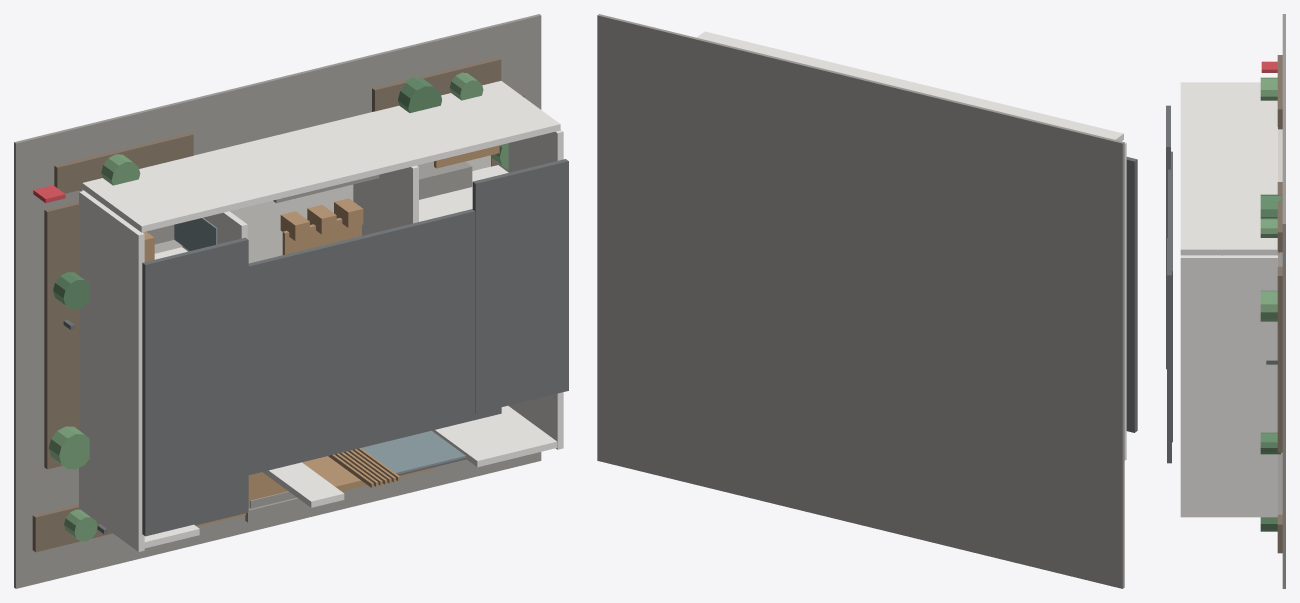
File: nm-house-web.glb
3 views of the same model, side by side, from view 1: azimuth 30°, elevation 25°; view 2: azimuth 150°, elevation 25°; view 3: azimuth 270°, elevation 25° (orthographic). The views are drawn at different scales.
Visible parts, largest first — view 1: Roof_Main, Site_Platform, Roof_Left, Exterior_Back_Wall, Roof_Right, Exterior_Left_Wall, Garden_Bed_3, Front_Wall_Right, House_Floor_Slab, Partition_Kitchen, Exterior_Right_Wall, Garden_Bed_5 (+17 smaller); view 2: Site_Platform, Exterior_Back_Wall, Roof_Left, Exterior_Left_Wall; view 3: Exterior_Right_Wall, Exterior_Back_Wall, Site_Platform, Roof_Right, Garden_Bed_4, House_Floor_Slab, Roof_Left, Roof_Main, Landscape_Shrub_9, Landscape_Shrub_6, Garden_Bed_5, Landscape_Shrub_5 (+6 smaller).
Boxes of the visible parts, x1,y1,x2,y2 form: Roof_Main: (248, 209, 501, 474); Site_Platform: (14, 14, 541, 588); Roof_Left: (142, 237, 248, 536); Exterior_Back_Wall: (82, 81, 560, 232); Roof_Right: (472, 159, 568, 413); Exterior_Left_Wall: (79, 190, 144, 551); Garden_Bed_3: (44, 201, 79, 469); Front_Wall_Right: (432, 405, 557, 467); House_Floor_Slab: (79, 155, 490, 263); Partition_Kitchen: (353, 165, 418, 235); Exterior_Right_Wall: (498, 130, 563, 449); Garden_Bed_5: (54, 132, 193, 193); Site_Platform: (597, 14, 1124, 588); Exterior_Back_Wall: (697, 31, 1123, 141); Roof_Left: (1126, 157, 1137, 432); Exterior_Left_Wall: (1124, 142, 1126, 460); Exterior_Right_Wall: (1180, 255, 1277, 517); Exterior_Back_Wall: (1180, 82, 1277, 254); Site_Platform: (1282, 14, 1285, 588); Roof_Right: (1167, 238, 1171, 463); Garden_Bed_4: (1277, 266, 1282, 452); House_Floor_Slab: (1278, 129, 1282, 514); Roof_Left: (1166, 105, 1170, 369); Roof_Main: (1168, 151, 1172, 442); Landscape_Shrub_9: (1260, 290, 1277, 321); Landscape_Shrub_6: (1260, 194, 1280, 218); Garden_Bed_5: (1277, 55, 1282, 129); Landscape_Shrub_5: (1260, 77, 1277, 100).
Size of the model in its own units: 15.8 by 12.8 by 3.81.
